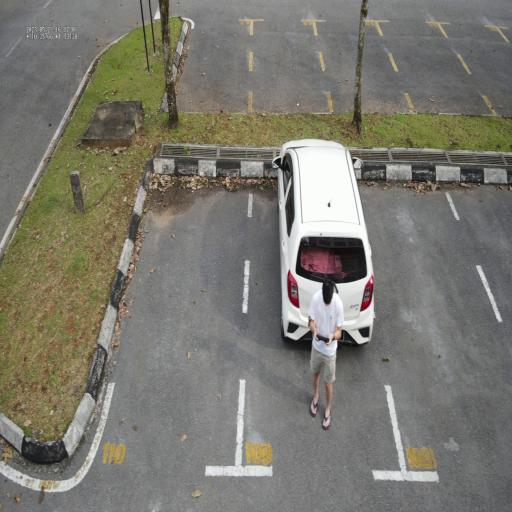Empty: (69, 178, 256, 485)
Occupied: (231, 168, 410, 488)
